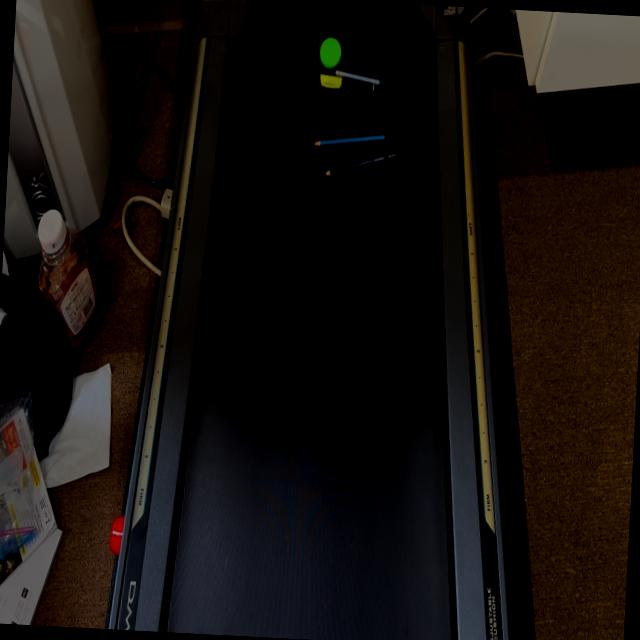Trash: (307, 120, 403, 193), (314, 32, 393, 101)
